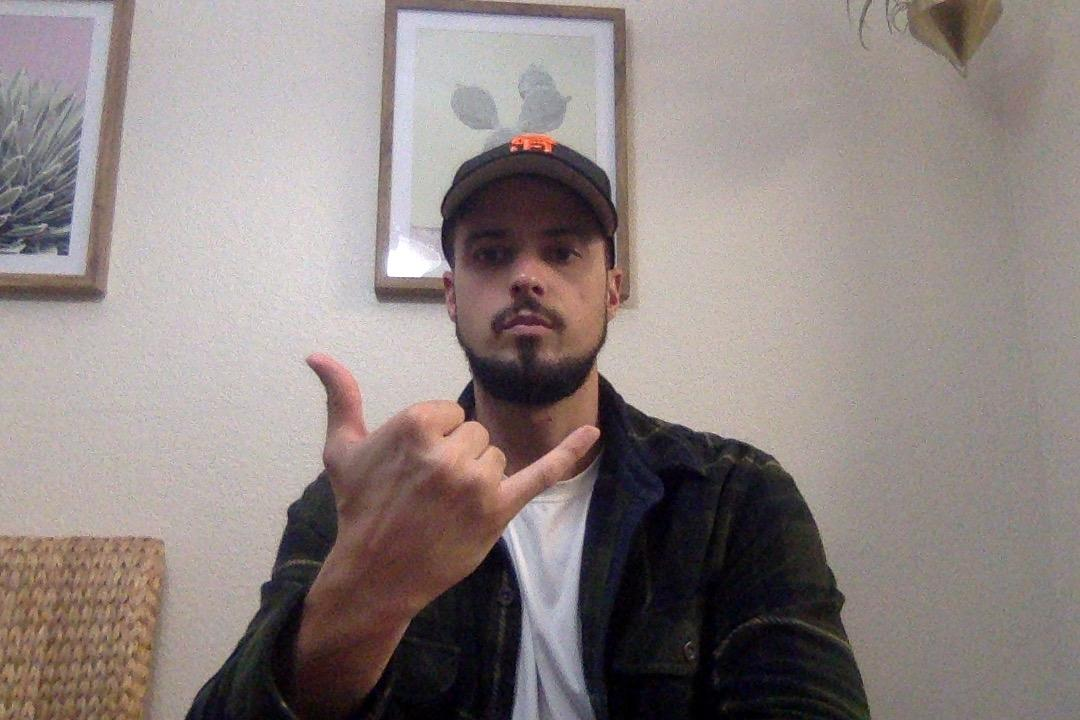Call-Me: (300, 335, 602, 603)
